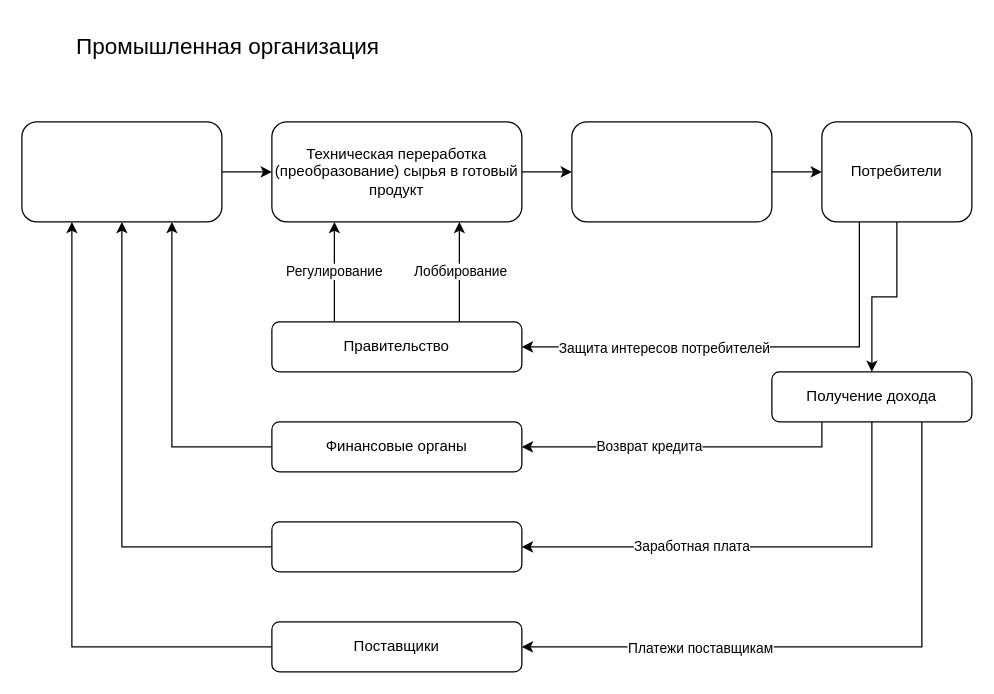
The diagram is 994 pixels wide and 694 high, and some of its shapes have lost their labels. The centre of each missing label's shape, as x and y in pixels:
Входящие материалы, капитал, труд: pixel 121 171
Рабочая сила: pixel 396 546
Результаты-готовые продукты: pixel 671 171
